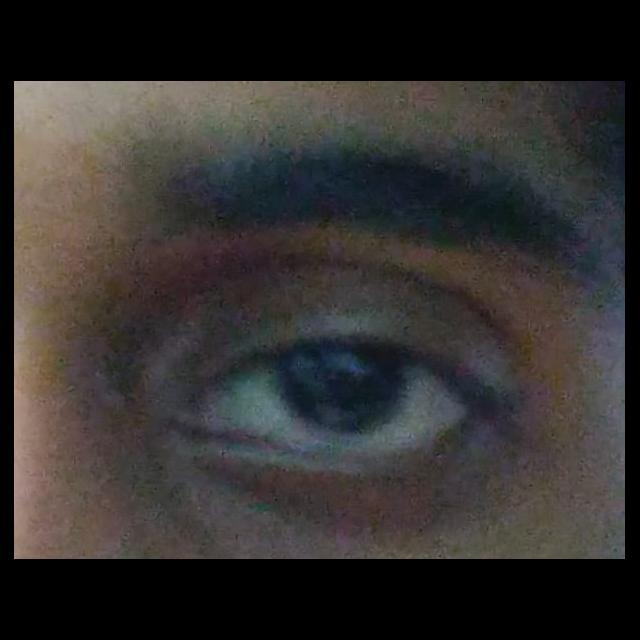eye: (211, 343, 474, 466)
iris: (278, 350, 406, 437)
